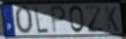K: (104, 5, 120, 32)
L: (34, 6, 50, 35)
O: (14, 5, 34, 35), (68, 4, 85, 34)
P: (49, 4, 68, 35)
Z: (84, 4, 105, 33)
